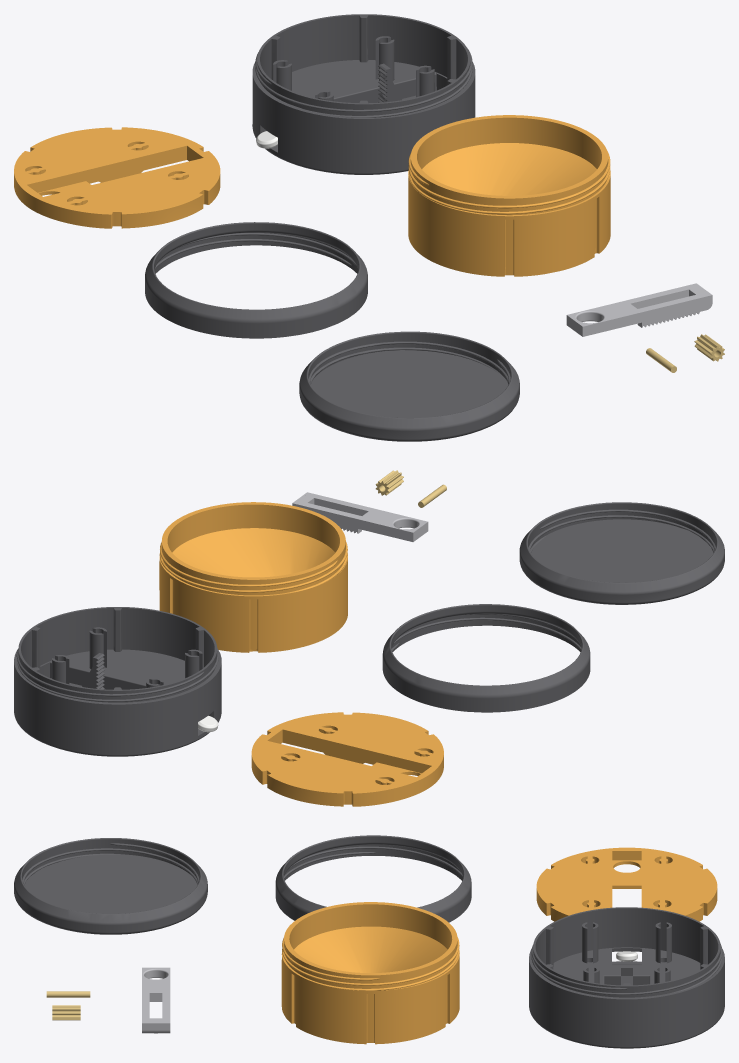
The model's file is exploded-h.glb.
3 views of the same model, one above another, from view 1: azimuth 30°, elevation 25°; view 2: azimuth 150°, elevation 25°; view 3: azimuth 270°, elevation 25° (orthographic). The views are drawn at different scales.
Size of the model in its own units: 0.2309 by 0.044 by 0.3637.
